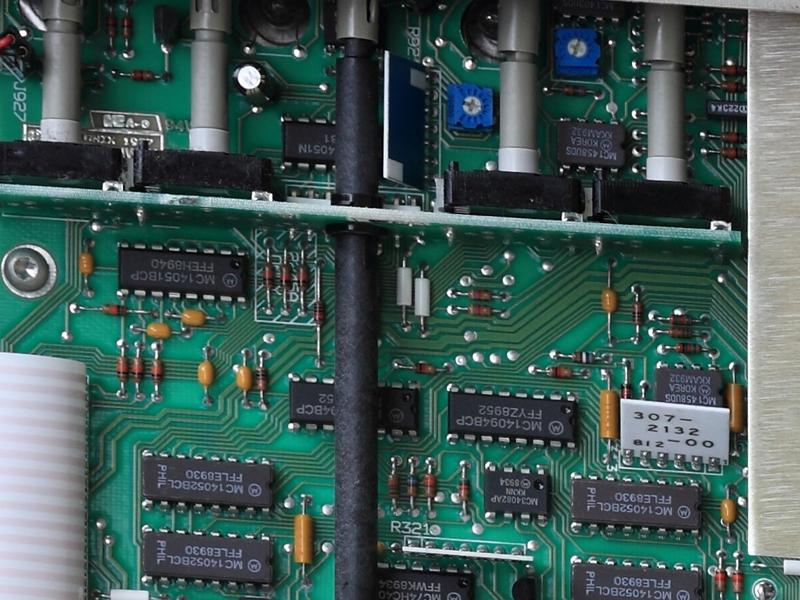Capacitor: (227, 56, 282, 115)
Diode: (616, 376, 636, 406)
Resistor: (276, 258, 295, 299), (253, 362, 274, 398), (261, 257, 279, 295), (125, 65, 159, 85), (554, 83, 596, 99), (148, 354, 167, 389), (99, 301, 134, 319), (311, 294, 328, 330), (114, 351, 131, 387), (712, 563, 730, 597), (130, 352, 147, 387), (463, 286, 498, 303), (385, 470, 402, 505), (296, 259, 312, 296), (421, 470, 439, 502), (403, 470, 421, 502), (465, 302, 498, 319), (456, 473, 473, 506), (543, 364, 578, 380), (671, 341, 708, 356), (567, 350, 599, 367), (716, 129, 748, 146), (714, 145, 750, 160), (408, 361, 442, 376), (665, 326, 697, 341), (730, 565, 745, 596), (630, 299, 646, 328), (104, 10, 118, 43), (715, 64, 747, 78), (120, 10, 133, 43), (717, 81, 750, 94), (666, 312, 695, 326)
